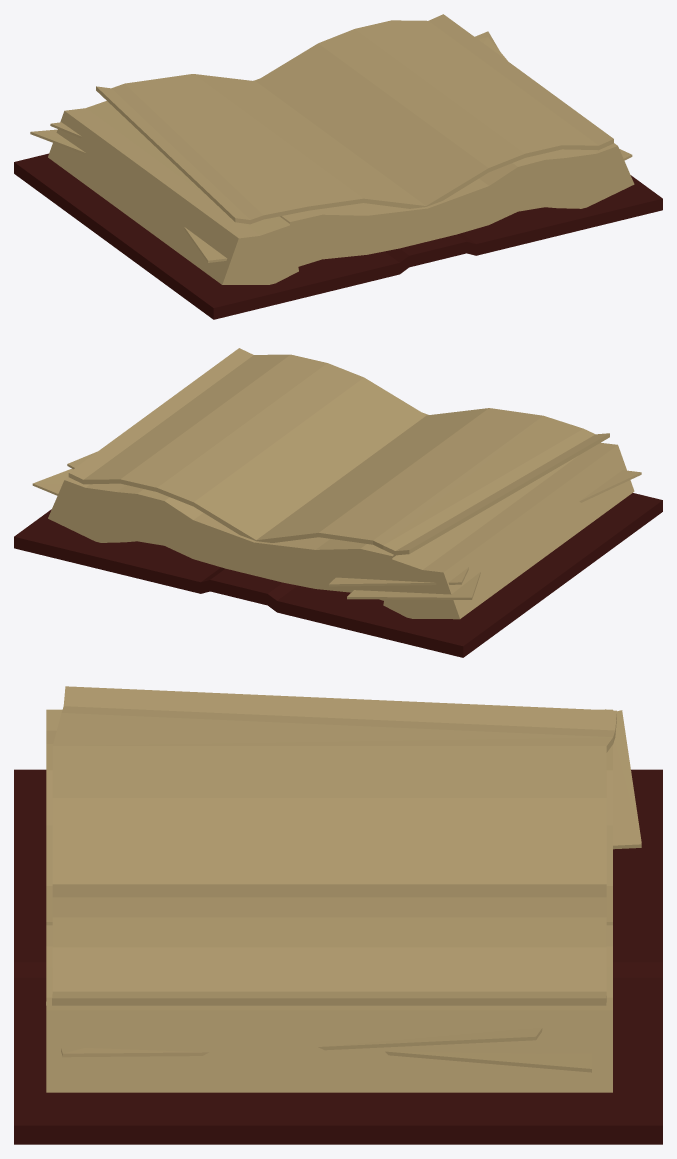
The model's file is book2_open.glb.
The picture shows the model from 3 angles, top to bottom: view 1: azimuth 30°, elevation 25°; view 2: azimuth 150°, elevation 25°; view 3: azimuth 270°, elevation 25°; orthographic projection. The views are drawn at different scales.
Parts seen in each view (by area): view 1: Book2_Open; view 2: Book2_Open; view 3: Book2_Open.
Part boxes in pixels (box(x1,y1,x2,y2)): Book2_Open: box(14, 14, 662, 319); Book2_Open: box(14, 348, 662, 657); Book2_Open: box(14, 686, 662, 1144).
Bounding box in the file's own units: 92.92 × 16.57 × 71.02.
